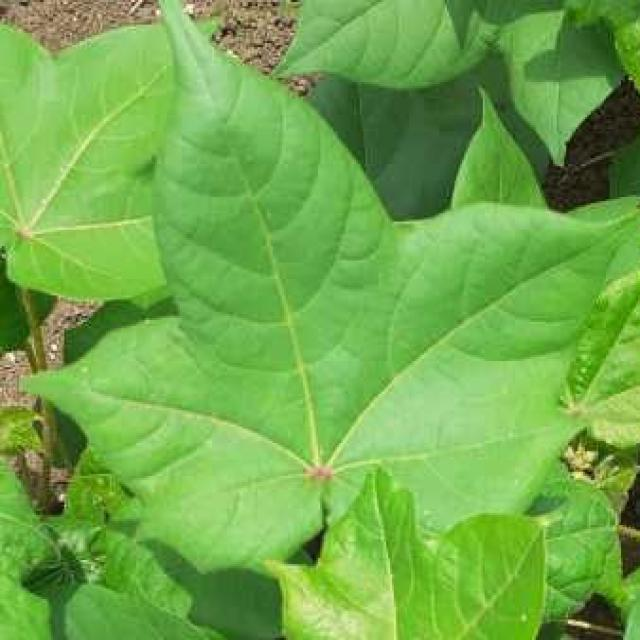Healthy Leaf: (76, 57, 638, 640)
